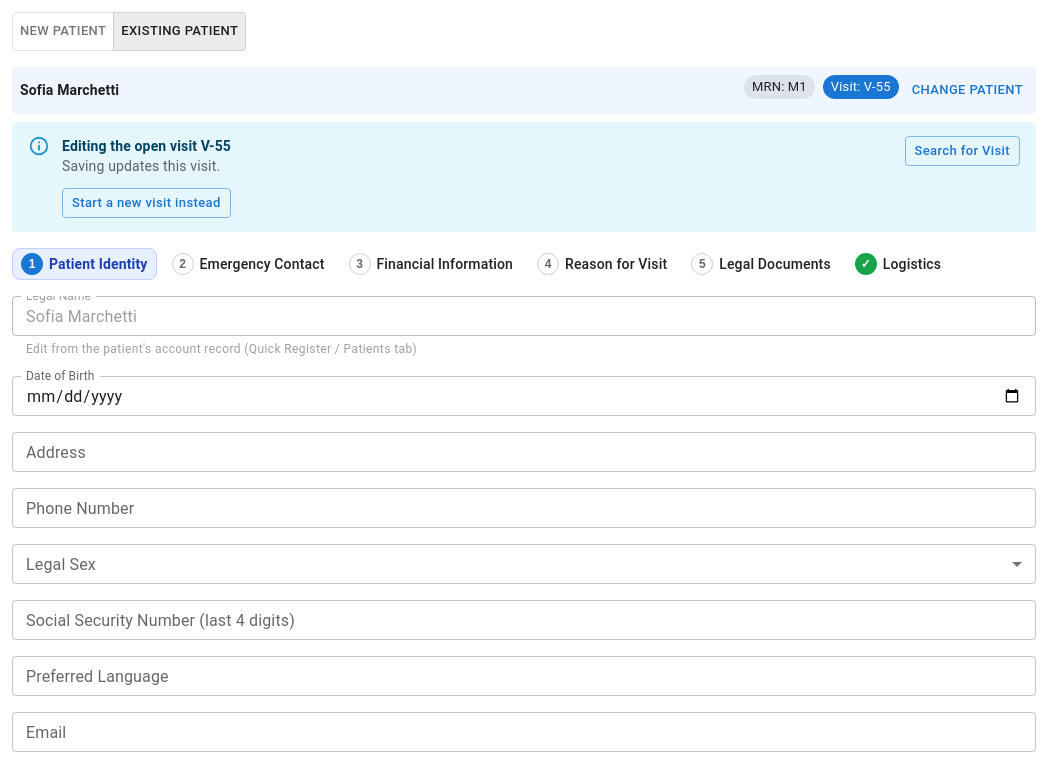
Scenario: step bar, footer and banner › the last step offers Save Registration instead
Expected: the text "Editing the open visit V-55" is shown, [62, 136, 231, 156]
Click the tab "✓ Logistics". click: {"x": 898, "y": 264}
box: [846, 248, 950, 280]
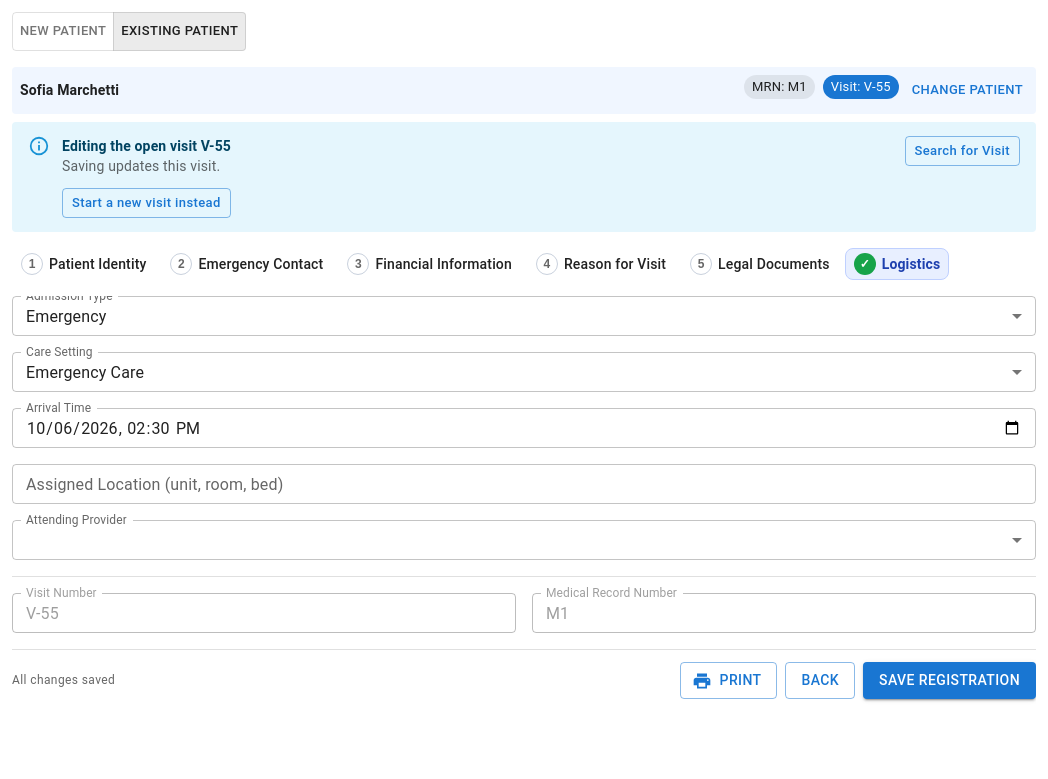
Now the button "Save Registration" is shown, box [863, 662, 1036, 699]
